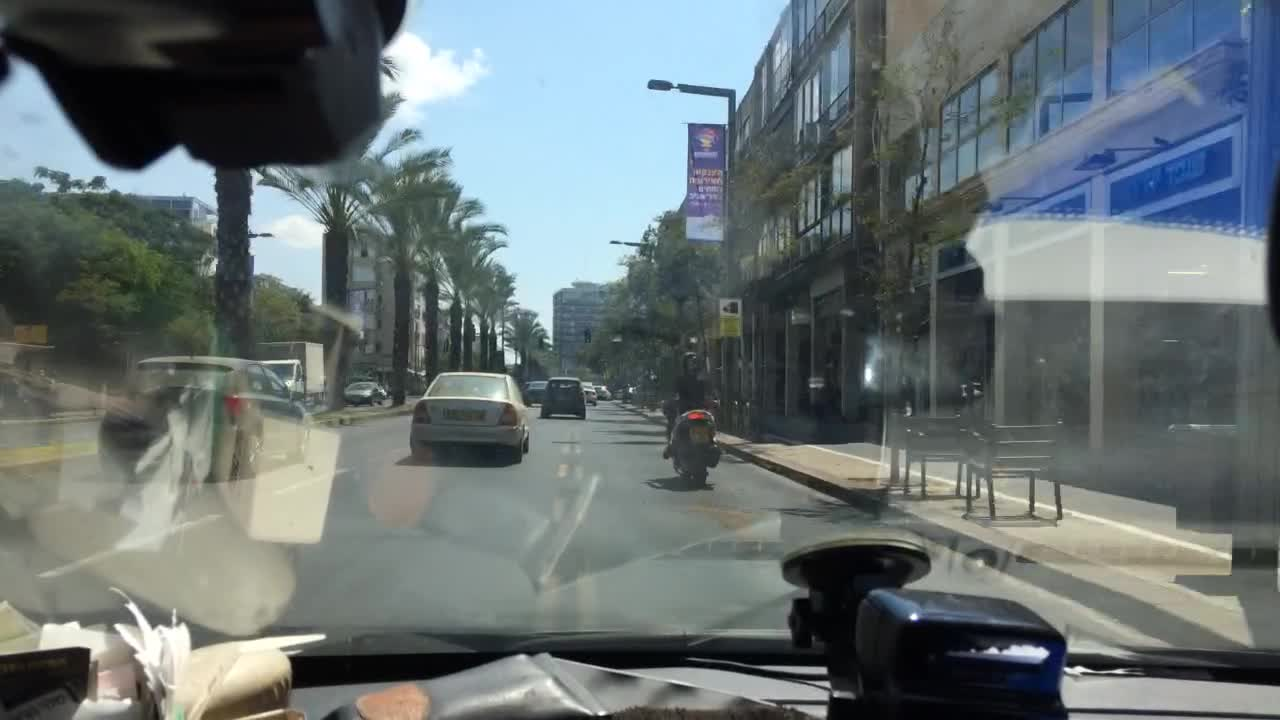car: (97, 349, 311, 480), (407, 367, 531, 459), (539, 373, 588, 418), (338, 378, 385, 404), (522, 378, 546, 399), (581, 378, 598, 401), (598, 382, 609, 398)
motor: (661, 395, 727, 480)
rider: (661, 351, 719, 457)
traffic sign: (715, 296, 742, 334), (13, 322, 51, 342)
truck: (257, 338, 326, 409)
